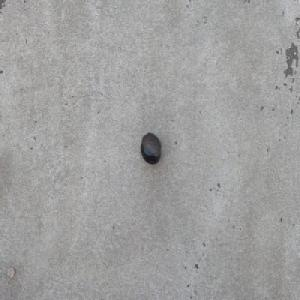FuelCap: (140, 131, 161, 165)
